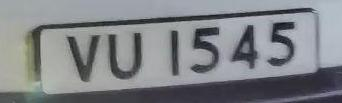1: (159, 22, 192, 83)
4: (225, 16, 268, 76)
5: (184, 20, 226, 79), (264, 15, 301, 73)
U: (101, 27, 149, 86)
V: (62, 28, 101, 87)
